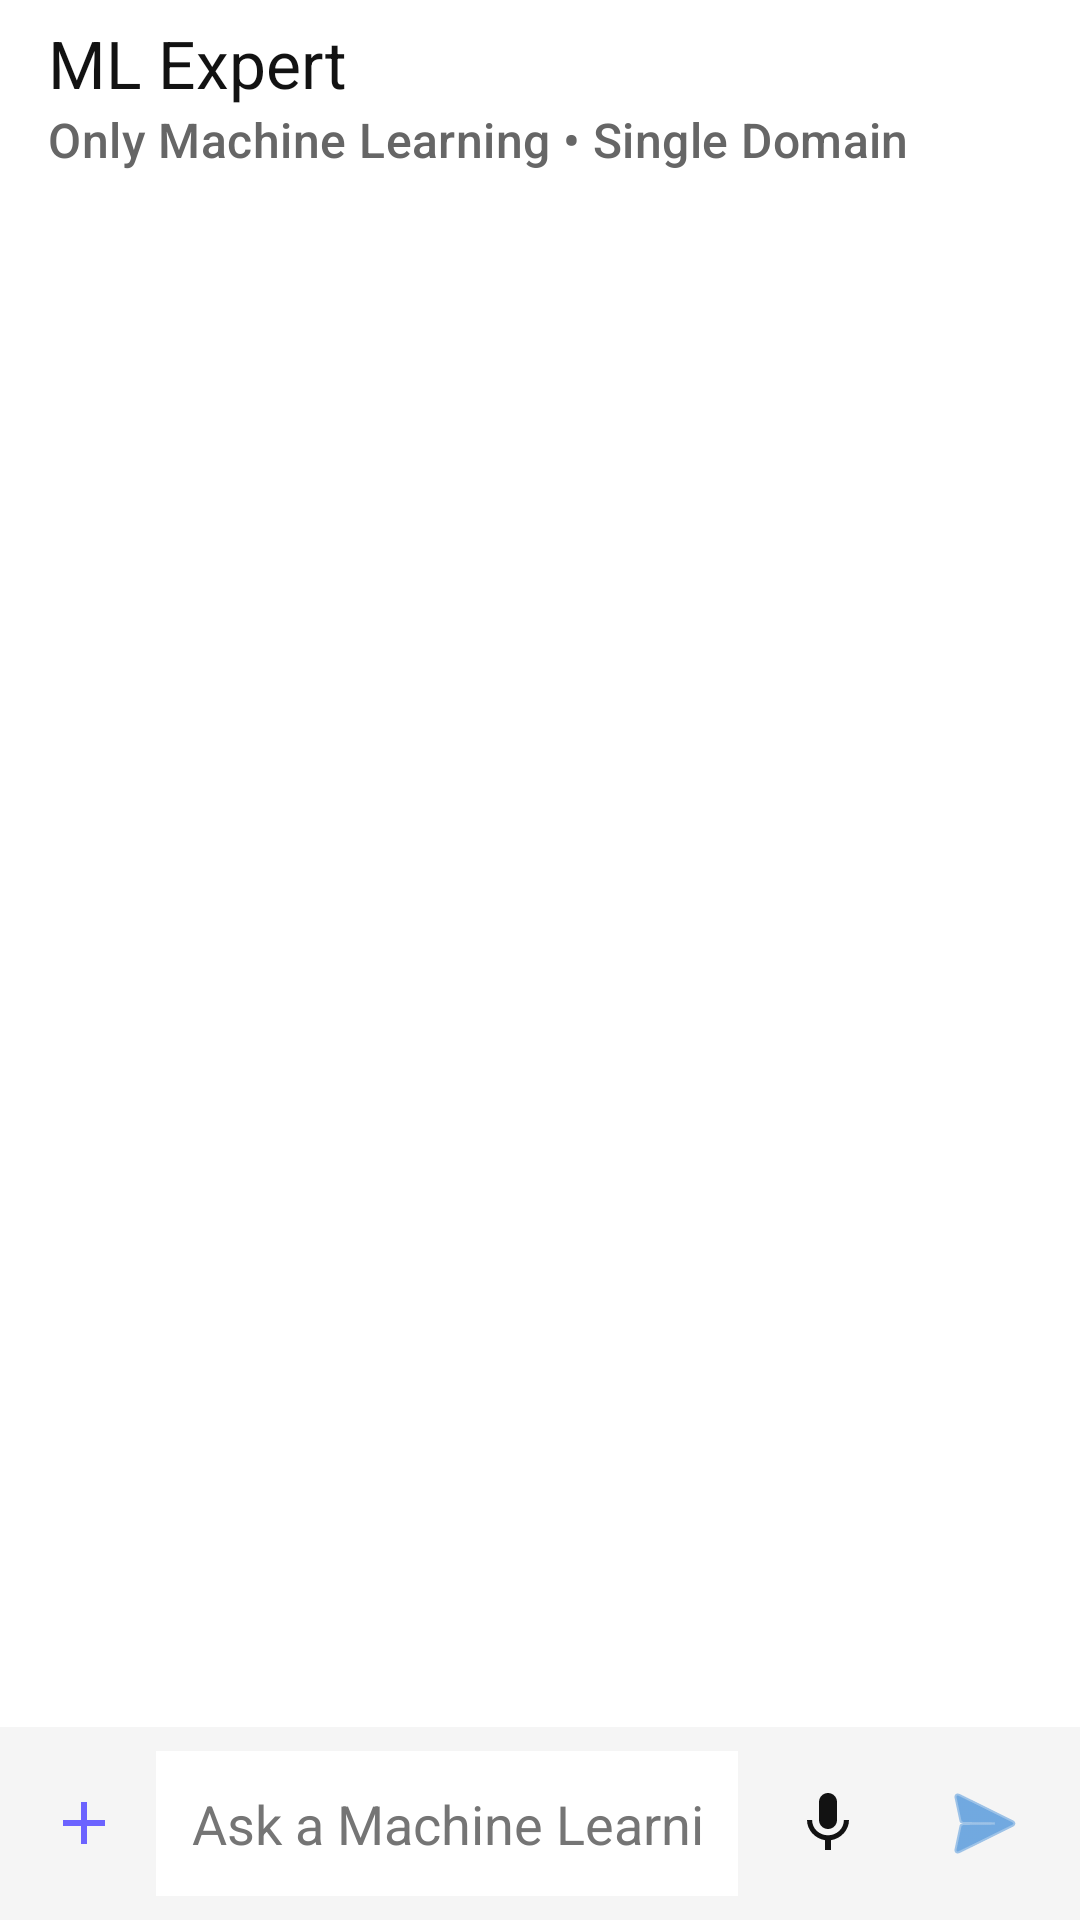

Icon bounding boxes for this 1080×1920 phone screenshot, format {"x1": x1, "y1": y1, "x2": x2, "y2": y2}:
Send: {"x1": 954, "y1": 1793, "x2": 1016, "y2": 1854}
Upload Image or File: {"x1": 63, "y1": 1802, "x2": 105, "y2": 1844}
Voice Type: {"x1": 807, "y1": 1793, "x2": 849, "y2": 1850}
